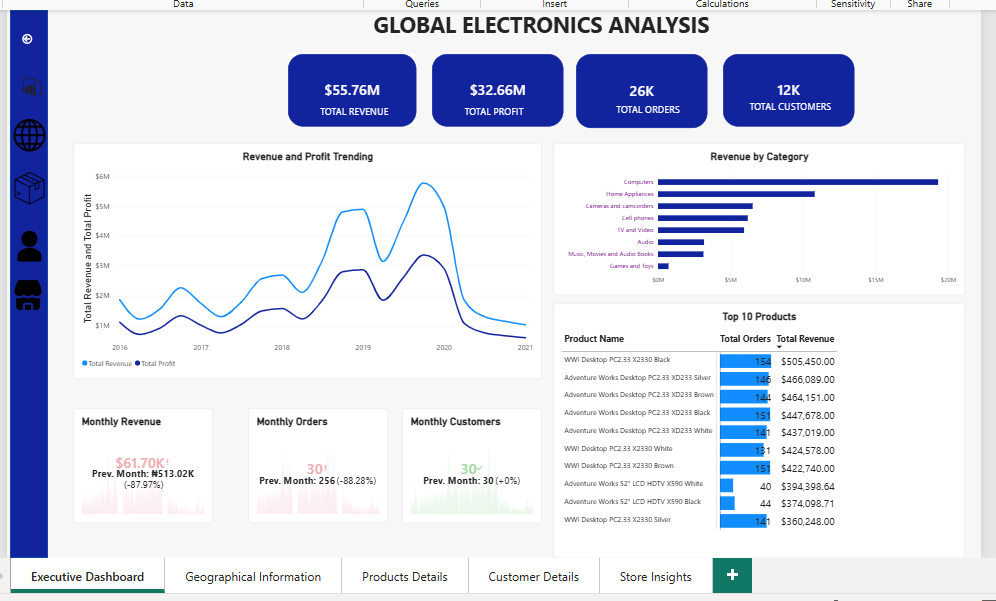

This screenshot's page, from the dashboard's own definition file:
{"tool":"powerbi","page":{"name":"Executive Dashboard","canvas":[1920,1080],"ordinal":0},"visuals":[{"type":"shape","box":[0,0,74.9,1080],"z":0,"group":"g9"},{"type":"textbox","box":[680.7,0,747,70.6],"z":0},{"type":"card","fields":{"Values":["  Measures Table.Total Revenue"]},"box":[553.8,86.7,253.1,142.5],"z":0,"group":"g1"},{"type":"group","id":"g1","title":"Group 1","box":[553.8,86.7,253.1,142.5],"z":0,"group":"g6"},{"type":"card","fields":{"Values":["  Measures Table.Total Profit"]},"box":[837.2,86.7,259.1,142.5],"z":0,"group":"g5"},{"type":"card","fields":{"Values":["  Measures Table.Total Orders"]},"box":[1120.6,86.7,259.1,145.8],"z":0,"group":"g4"},{"type":"card","fields":{"Values":["  Measures Table.Total Customers"]},"box":[1410.1,86.7,259.1,142.5],"z":0,"group":"g3"},{"type":"actionButton","box":[0,0,69,114.3],"z":1000,"group":"g8"},{"type":"group","id":"g2","title":"Group 2","box":[837.2,86.7,259.1,142.5],"z":1000,"group":"g6"},{"type":"image","box":[-0.1,119.4,86.7,61.1],"z":1000,"group":"g7"},{"type":"textbox","box":[1455.5,177.5,175.5,45.4],"z":1000,"group":"g3"},{"type":"textbox","box":[1188.7,183.7,146.6,41.3],"z":1000,"group":"g4"},{"type":"textbox","box":[605.8,186.4,159,33],"z":1000,"group":"g1"},{"type":"textbox","box":[886.3,186.4,146.6,33],"z":1000,"group":"g5"},{"type":"lineChart","title":"Revenue and Profit Trending","fields":{"Category":["Sales.Order Date.Variation.Date Hierarchy.Year","Sales.Order Date.Variation.Date Hierarchy.Month"],"Y":["  Measures Table.Total Revenue","  Measures Table.Total Profit"]},"box":[130.1,262.1,924.3,465.1],"z":1000},{"type":"group","id":"g3","title":"Group 5","box":[1410.1,86.7,259.1,142.5],"z":2000,"group":"g6"},{"type":"image","box":[5.9,214.7,65,63.8],"z":2000,"group":"g7"},{"type":"clusteredBarChart","title":"Revenue by Category","fields":{"Category":["Products.Category"],"Y":["  Measures Table.Total Revenue"]},"box":[1076.1,262.1,812,299.6],"z":2000},{"type":"group","id":"g4","title":"Group 5","box":[1120.6,86.7,259.1,145.8],"z":3000,"group":"g6"},{"type":"image","box":[5.9,318.7,65,63.8],"z":3000,"group":"g7"},{"type":"pivotTable","title":"Top 10 Products","fields":{"Rows":["Products.Product Name"],"Values":["  Measures Table.Total Orders","  Measures Table.Total Revenue"]},"box":[1076.1,577.4,812,433.6],"z":3000},{"type":"image","box":[5.9,432.1,65,63.8],"z":4000,"group":"g7"},{"type":"kpi","title":"Monthly Revenue","fields":{"Goal":["  Measures Table.Previous Month Revenue"],"Indicator":["  Measures Table.Total Revenue"],"TrendLine":["Date.Date Hierarchy.Start of Month"]},"box":[130.1,784.4,275.9,226.6],"z":4000},{"type":"kpi","title":"Monthly Orders","fields":{"Goal":["  Measures Table.Previous Month Orders"],"Indicator":["  Measures Table.Total Orders"],"TrendLine":["Date.Date Hierarchy.Start of Month"]},"box":[475,784.4,275,226],"z":5000},{"type":"kpi","title":"Monthly Customers","fields":{"Goal":["  Measures Table.Monthly Customers"],"Indicator":["  Measures Table.Total Customers"],"TrendLine":["Date.Date Hierarchy.Start of Month"]},"box":[778.5,784.4,275,226.6],"z":6000},{"type":"group","id":"g5","title":"Group 5","box":[837.2,86.7,259.1,142.5],"z":10001,"group":"g2"},{"type":"group","id":"g6","title":"Group 3","box":[553.8,86.7,1115.5,145.8],"z":10002},{"type":"group","id":"g7","title":"Group 4","box":[-0.1,119.4,86.7,376.5],"z":10003,"group":"g8"},{"type":"group","id":"g8","title":"Group 6","box":[-0.1,0,86.7,495.9],"z":10004,"group":"g9"},{"type":"group","id":"g9","title":"Group 7","box":[-0.1,0,86.7,1080],"z":10005}]}

Visuals, with their boxes on the page's 1920x1080 design canvas (x1, y1, x2, y2). These are canvas units, not pixel positions in the 996x601 screenshot, which may show the page scaled, cropped or inside an application window:
shape: 0,0,75,1080
textbox: 681,0,1428,71
card -   Measures Table.Total Revenue: 554,87,807,229
"Group 1" group: 554,87,807,229
card -   Measures Table.Total Profit: 837,87,1096,229
card -   Measures Table.Total Orders: 1121,87,1380,232
card -   Measures Table.Total Customers: 1410,87,1669,229
actionButton: 0,0,69,114
"Group 2" group: 837,87,1096,229
image: 0,119,87,180
textbox: 1456,178,1631,223
textbox: 1189,184,1335,225
textbox: 606,186,765,219
textbox: 886,186,1033,219
"Revenue and Profit Trending" lineChart: 130,262,1054,727
"Group 5" group: 1410,87,1669,229
image: 6,215,71,278
"Revenue by Category" clusteredBarChart: 1076,262,1888,562
"Group 5" group: 1121,87,1380,232
image: 6,319,71,382
"Top 10 Products" pivotTable: 1076,577,1888,1011
image: 6,432,71,496
"Monthly Revenue" kpi: 130,784,406,1011
"Monthly Orders" kpi: 475,784,750,1010
"Monthly Customers" kpi: 778,784,1054,1011
"Group 5" group: 837,87,1096,229
"Group 3" group: 554,87,1669,232
"Group 4" group: 0,119,87,496
"Group 6" group: 0,0,87,496
"Group 7" group: 0,0,87,1080
